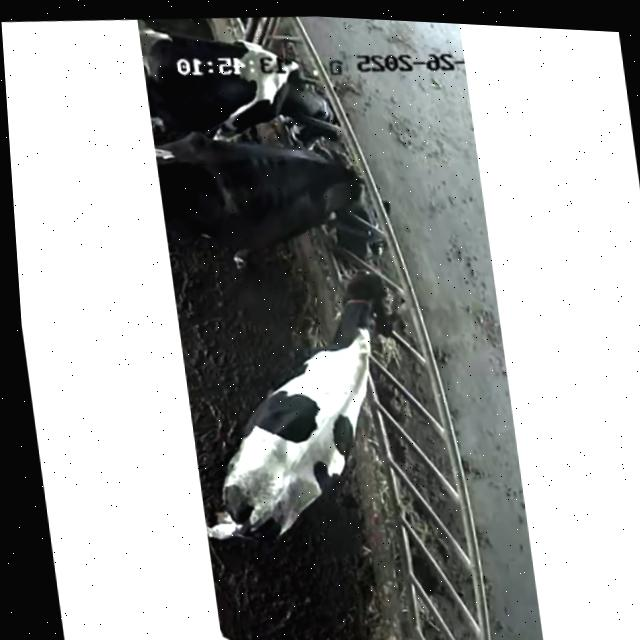eat: (225, 132, 423, 255), (274, 249, 461, 377), (189, 36, 377, 144)
